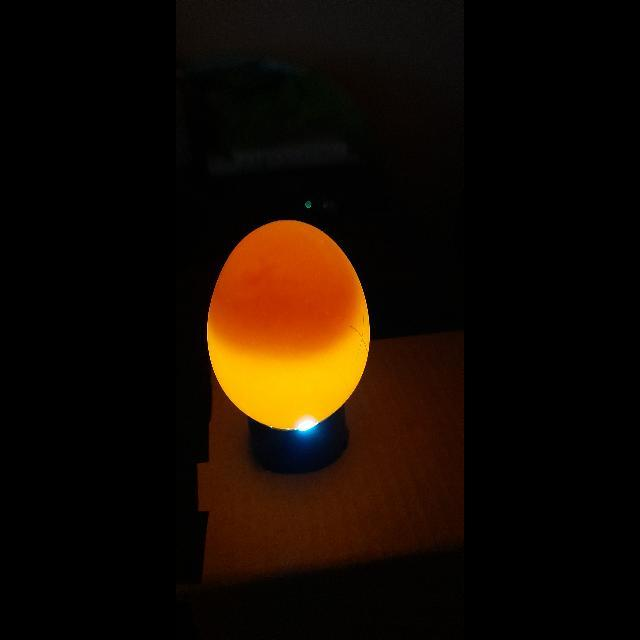Fertile: (203, 213, 381, 433)
